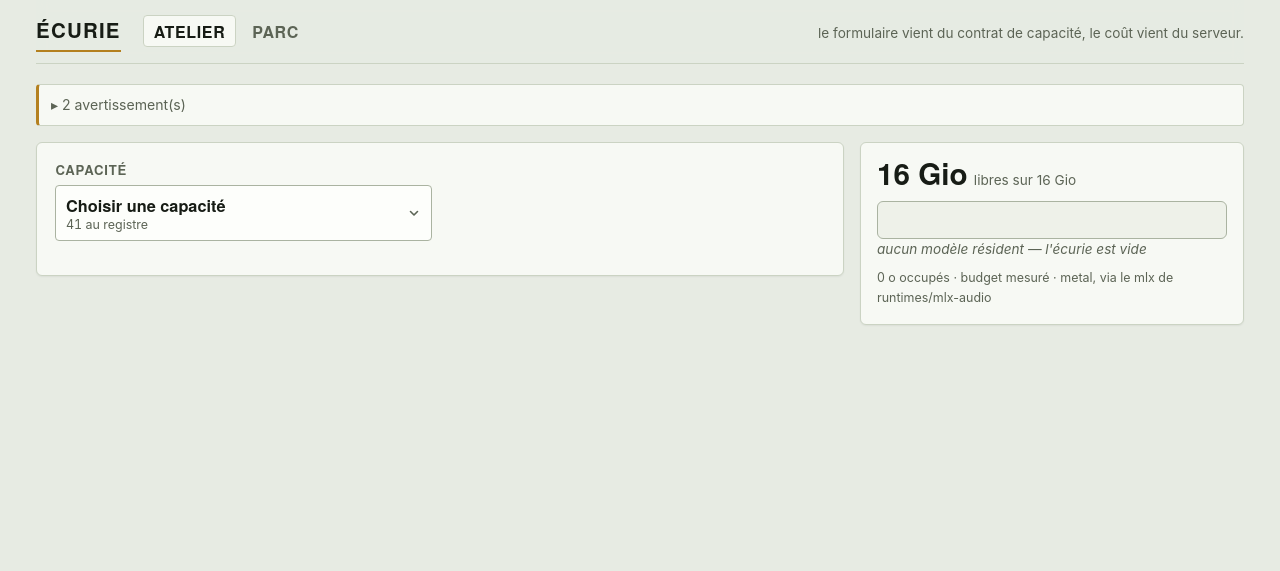
Test: ce que le job a produit › le wav pointe l_url que le serveur a composee
Click the button "Choisir une capacité 41 au registre".
click(146, 205)  # box [55,185,432,241]
(page scrolled)
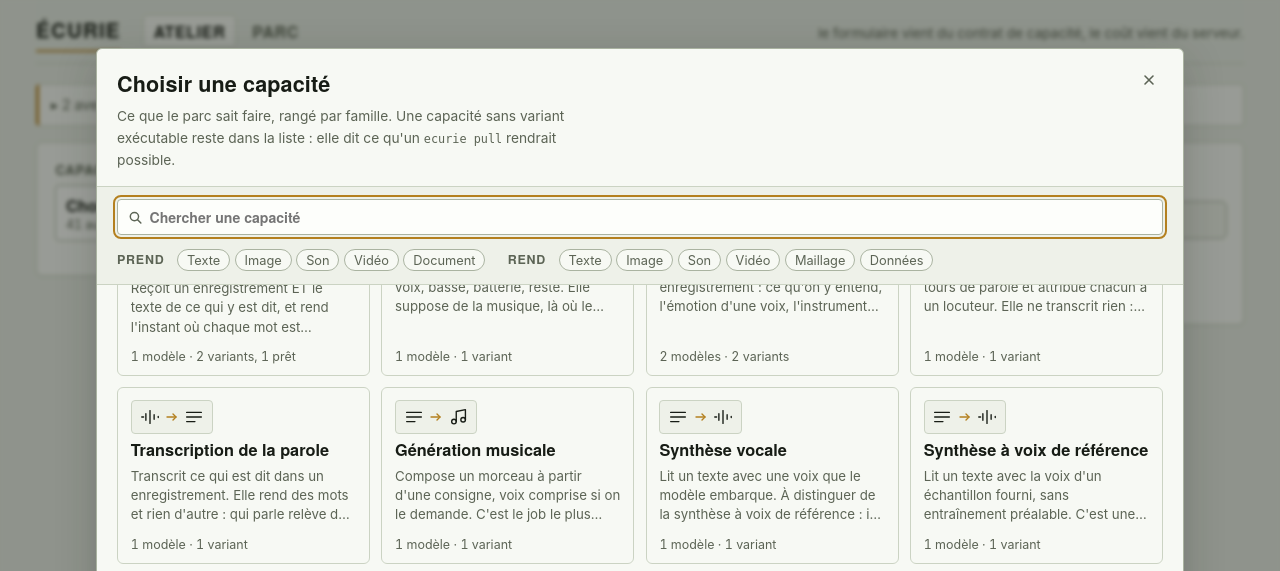
Click the button "Synthèse vocale".
click(772, 475)  # box [646,387,899,564]
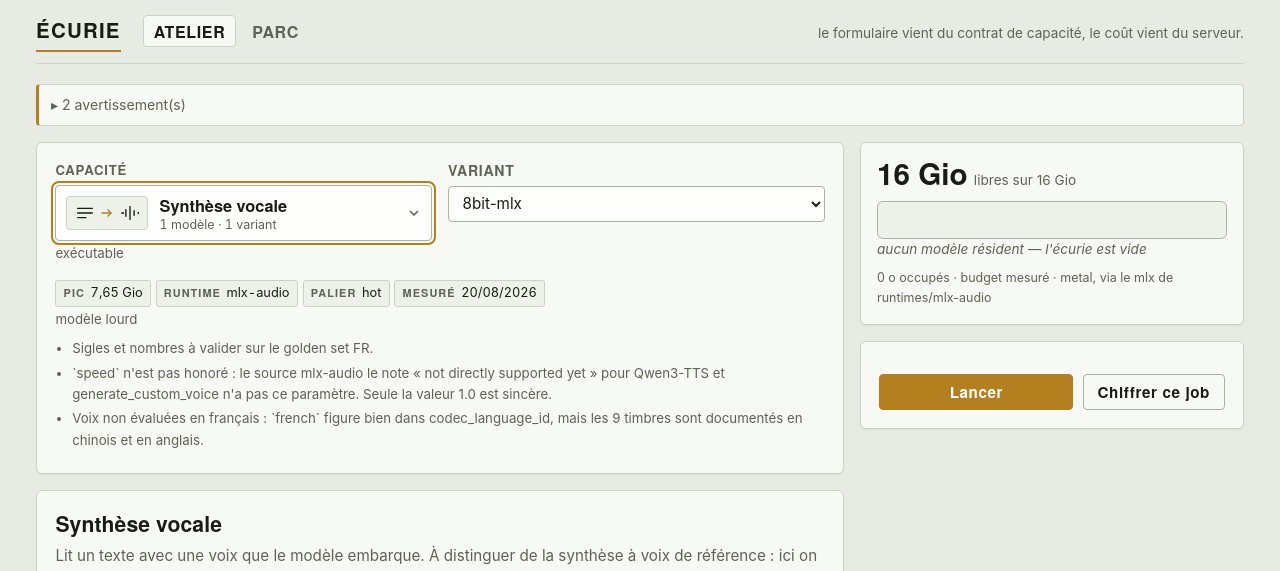
Click the button "Lancer".
click(976, 392)  # box [879,374,1073,410]
(page scrolled)
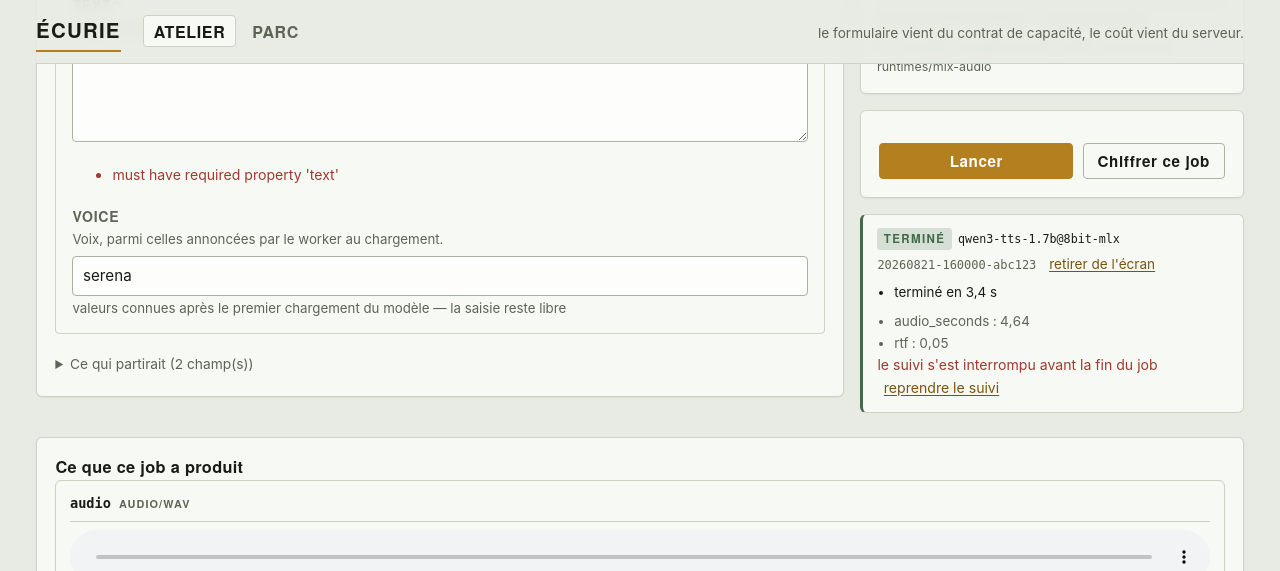
Now the heading "Ce que ce job a produit" is shown, box [55,455,243,478]
